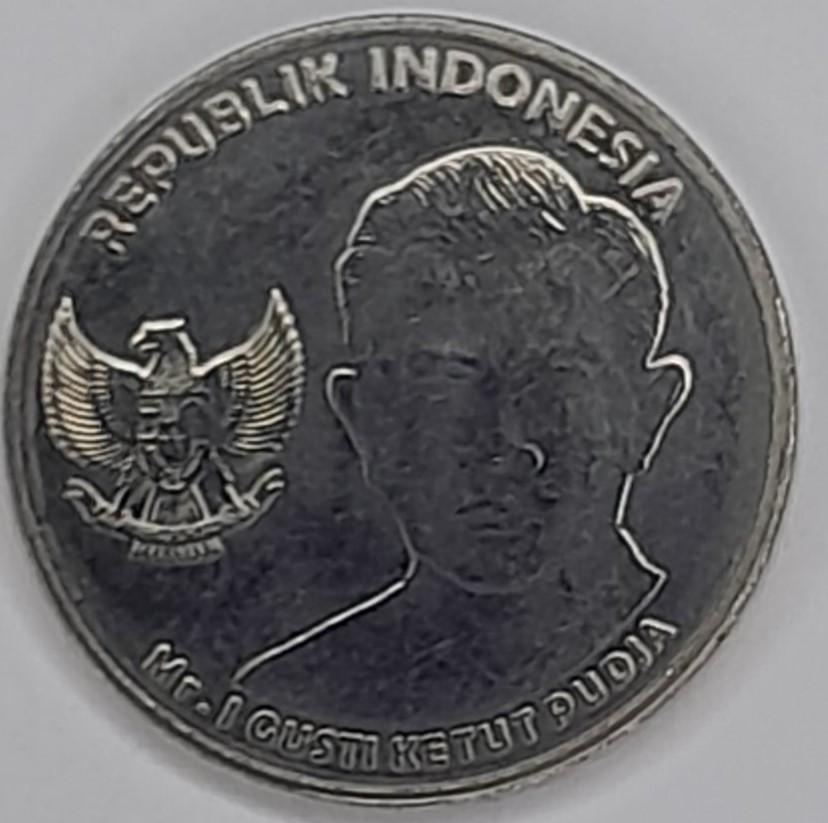coin_1000_e2016: (14, 16, 817, 823)
